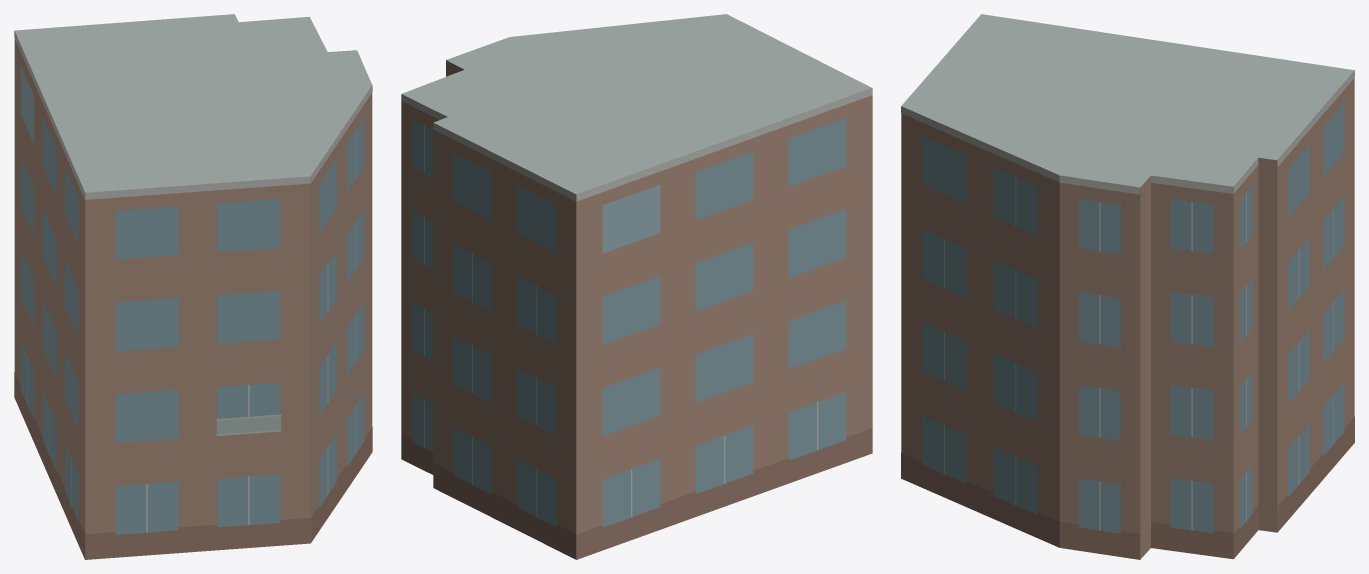
The model's file is survey-upis-32959478.glb.
3 views of the same model, side by side, from view 1: azimuth 30°, elevation 25°; view 2: azimuth 150°, elevation 25°; view 3: azimuth 270°, elevation 25° (orthographic).
Visible parts, largest first — view 1: survey-upis-32959478.tmp; view 2: survey-upis-32959478.tmp; view 3: survey-upis-32959478.tmp.
Boxes of the visible parts, x1,y1,x2,y2 form: survey-upis-32959478.tmp: (14,14,372,559); survey-upis-32959478.tmp: (401,14,872,559); survey-upis-32959478.tmp: (901,14,1354,559).
Size of the model in its own units: 12.57 by 12.58 by 13.9.
